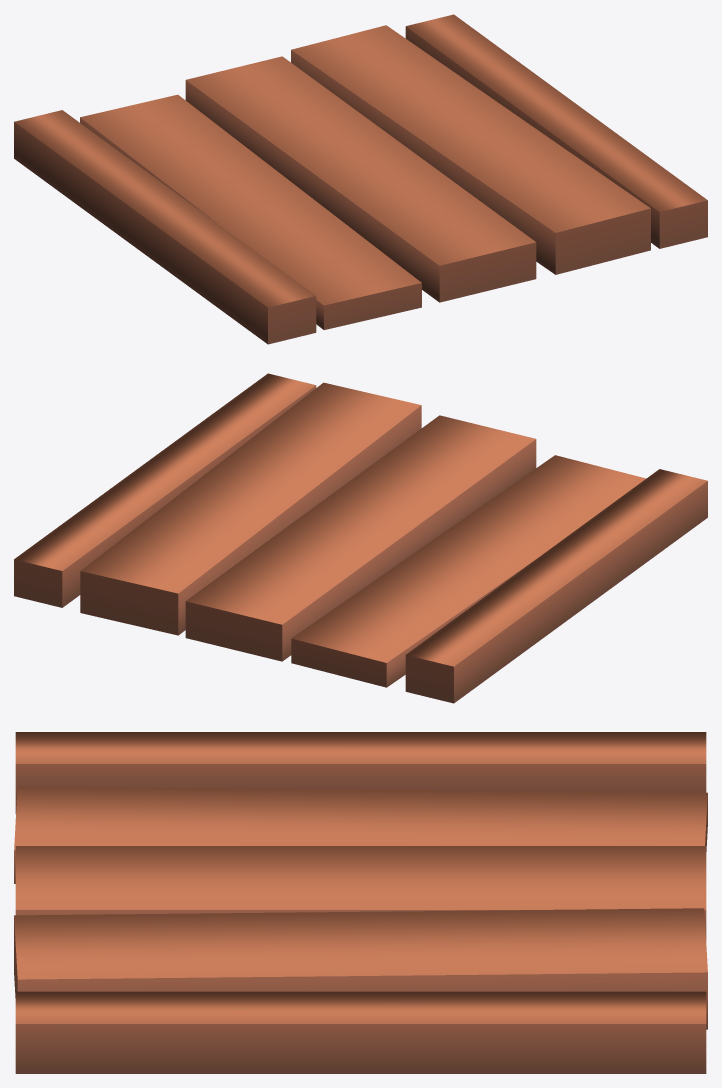
Rendered from kenney-pirate-platform.glb.
3 views of the same model, one above another, from view 1: azimuth 30°, elevation 25°; view 2: azimuth 150°, elevation 25°; view 3: azimuth 270°, elevation 25° (orthographic). The views are drawn at different scales.
Parts seen in each view (by area): view 1: platform; view 2: platform; view 3: platform.
Part boxes in pixels (box(x1,y1,x2,y2)): platform: box(14, 14, 707, 344); platform: box(14, 373, 707, 703); platform: box(14, 732, 707, 1073).
Size of the model in its own units: 2.5 by 0.2279 by 2.51.
1 material, 1 textured.
